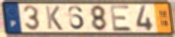3: (22, 4, 41, 32)
4: (135, 4, 155, 32)
6: (67, 6, 86, 31)
8: (89, 4, 109, 32)
E: (109, 4, 133, 33)
K: (44, 5, 64, 31)
